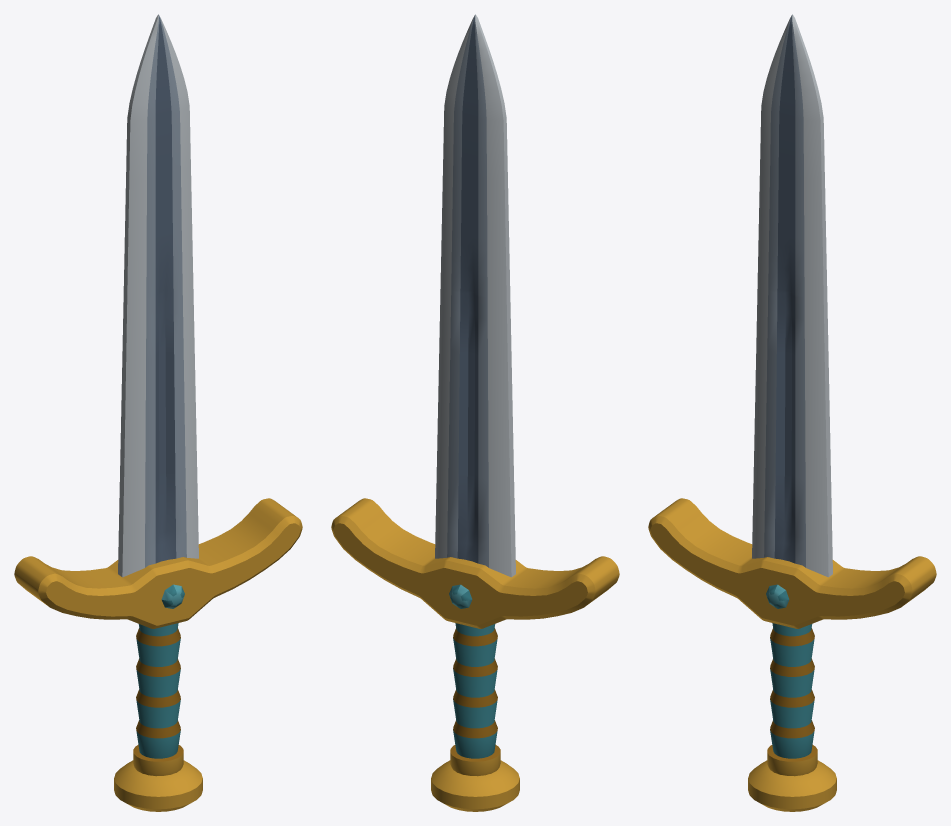
The model's file is Longsword_21.glb.
The picture shows the model from 3 angles, left to right: view 1: azimuth 30°, elevation 25°; view 2: azimuth 150°, elevation 25°; view 3: azimuth 330°, elevation 25°; orthographic projection.
Parts seen in each view (by area): view 1: Longsword_21; view 2: Longsword_21; view 3: Longsword_21.
Part boxes in pixels (x1=…): Longsword_21: x1=14, y1=14, x2=302, y2=811; Longsword_21: x1=331, y1=14, x2=619, y2=811; Longsword_21: x1=648, y1=14, x2=936, y2=811.
Size of the model in its own units: 2.41 by 6.81 by 0.6994.
